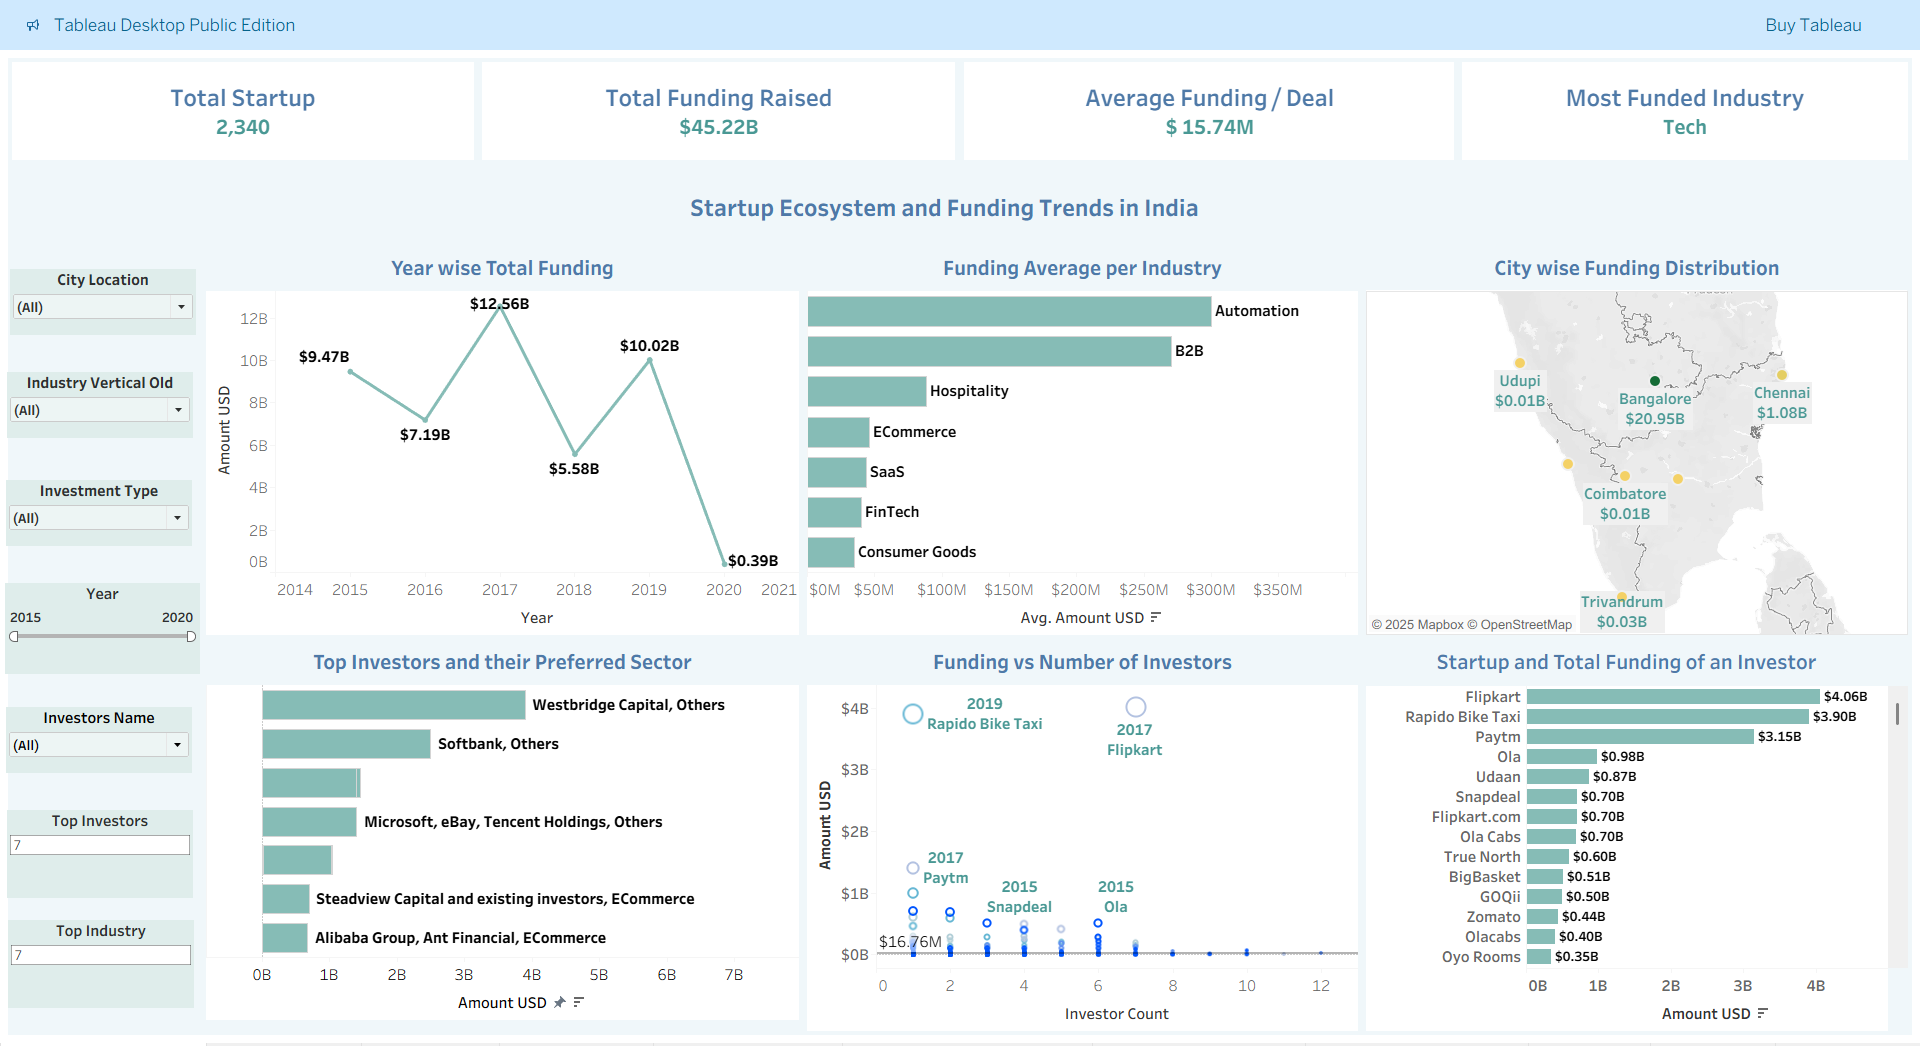

The page's visual inventory and layout, read from the dashboard file:
{"tool":"tableau","page":{"name":"Startup Trends Analysis","canvas":[1000,1000],"units":"permille","ordinal":0},"visuals":[{"type":"worksheet","title":"Total Startups","mark":"Automatic","box":[4.8,10,244.6,105.9]},{"type":"worksheet","title":"total funding raised","mark":"Automatic","box":[249.5,10,250.3,105.9]},{"type":"worksheet","title":"avg funding/deal","mark":"Automatic","box":[499.8,10,259.4,105.9]},{"type":"worksheet","title":"most funded industry","mark":"Automatic","box":[759.2,10,236,105.9]},{"type":"text","box":[4.8,115.9,990.3,81.2]},{"type":"text","box":[304.1,122.4,375.4,72.4]},{"type":"blank","box":[4.8,197.1,100.8,792.9]},{"type":"worksheet","title":"yearly total funding","mark":"Line","rows":["Amount_USD"],"cols":["Year"],"box":[105.7,197.1,312.6,395.7]},{"type":"worksheet","title":"avg funding per industry","mark":"Bar","rows":["Industry_Vertical"],"cols":["Amount_USD"],"box":[418.2,197.1,290.8,395.7]},{"type":"worksheet","title":"city wise funding distribution","mark":"Automatic","box":[709,197.1,286.2,395.7]},{"type":"filter","title":"total funding raised","param":"[federated.024d0mx1qedoxl1dx7wpl0r5k009].[none:City_Location:nk]","box":[5.4,221,96.7,66.2]},{"type":"filter","title":"Total Startups","param":"[federated.024d0mx1qedoxl1dx7wpl0r5k009].[none:Industry_Vertical:nk]","box":[3.6,324.6,96.7,66.2]},{"type":"filter","title":"avg funding/deal","param":"[federated.024d0mx1qedoxl1dx7wpl0r5k009].[none:Investment_Type:nk]","box":[3,433.2,96.7,66.2]},{"type":"filter","title":"Total Startups","param":"[federated.024d0mx1qedoxl1dx7wpl0r5k009].[none:Year:qk]","box":[2.4,536.8,101.6,91.1]},{"type":"worksheet","title":"Top 10 Investors and their preferred Sector","mark":"Bar","rows":["Investors_Name"],"cols":["Amount_USD"],"box":[105.7,592.9,312.6,397.2]},{"type":"worksheet","title":"funding vs num of investors","mark":"Automatic","rows":["Amount_USD"],"cols":["investor_count"],"box":[418.2,592.9,290.8,397.2]},{"type":"worksheet","title":"startup funded","mark":"Automatic","rows":["Startup_Name"],"cols":["Amount_USD"],"box":[709,592.9,286.2,397.2]},{"type":"filter","title":"startup funded","param":"[federated.024d0mx1qedoxl1dx7wpl0r5k009].[none:Investors_Name:nk]","box":[3,661.7,96.7,66.2]},{"type":"parameter","param":"[Parameters].[Parameter 1]","box":[3.6,765.3,96.7,88.6]},{"type":"parameter","param":"[Parameters].[Parameter 2]","box":[4.2,876.4,96.7,88.6]}]}

Visuals, with their boxes on the dashboard's canvas, which has no fixed pixel size, in thousandths of its width and height (x1, y1, x2, y2). These are canvas units, not pixel positions in the 1920x1046 screenshot, which may show the page scaled, cropped or inside an application window:
"Total Startups" worksheet: 5:10:249:116
"total funding raised" worksheet: 250:10:500:116
"avg funding/deal" worksheet: 500:10:759:116
"most funded industry" worksheet: 759:10:995:116
text: 5:116:995:197
text: 304:122:680:195
blank: 5:197:106:990
"yearly total funding" worksheet (Line marks): 106:197:418:593
"avg funding per industry" worksheet (Bar marks): 418:197:709:593
"city wise funding distribution" worksheet: 709:197:995:593
"total funding raised" filter: 5:221:102:287
"Total Startups" filter: 4:325:100:391
"avg funding/deal" filter: 3:433:100:499
"Total Startups" filter: 2:537:104:628
"Top 10 Investors and their preferred Sector" worksheet (Bar marks): 106:593:418:990
"funding vs num of investors" worksheet: 418:593:709:990
"startup funded" worksheet: 709:593:995:990
"startup funded" filter: 3:662:100:728
parameter: 4:765:100:854
parameter: 4:876:101:965
